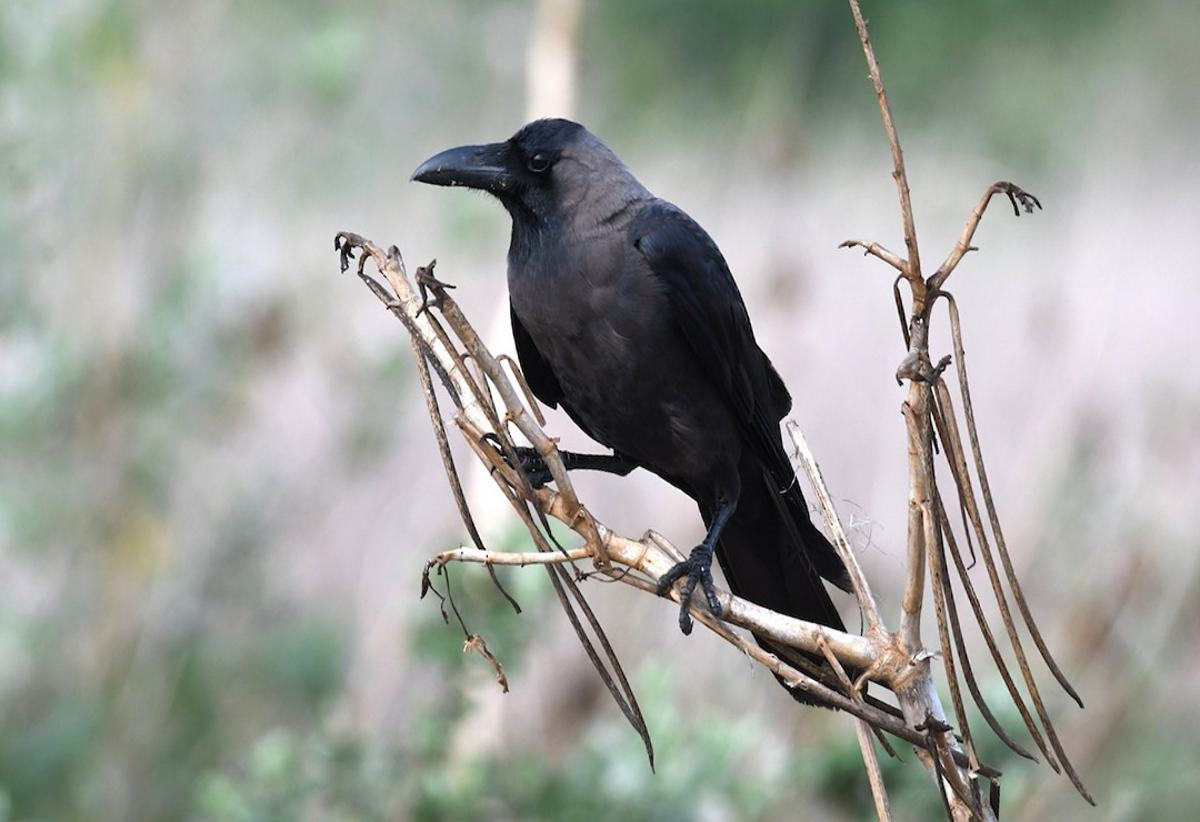crow: (404, 92, 920, 710)
